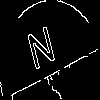N: (25, 25, 60, 80)
